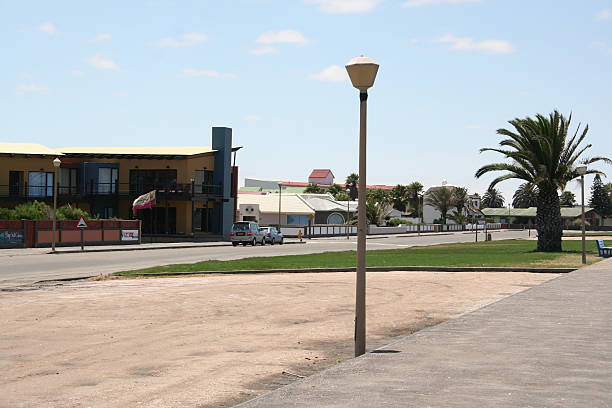light_pole: (355, 96, 370, 353)
